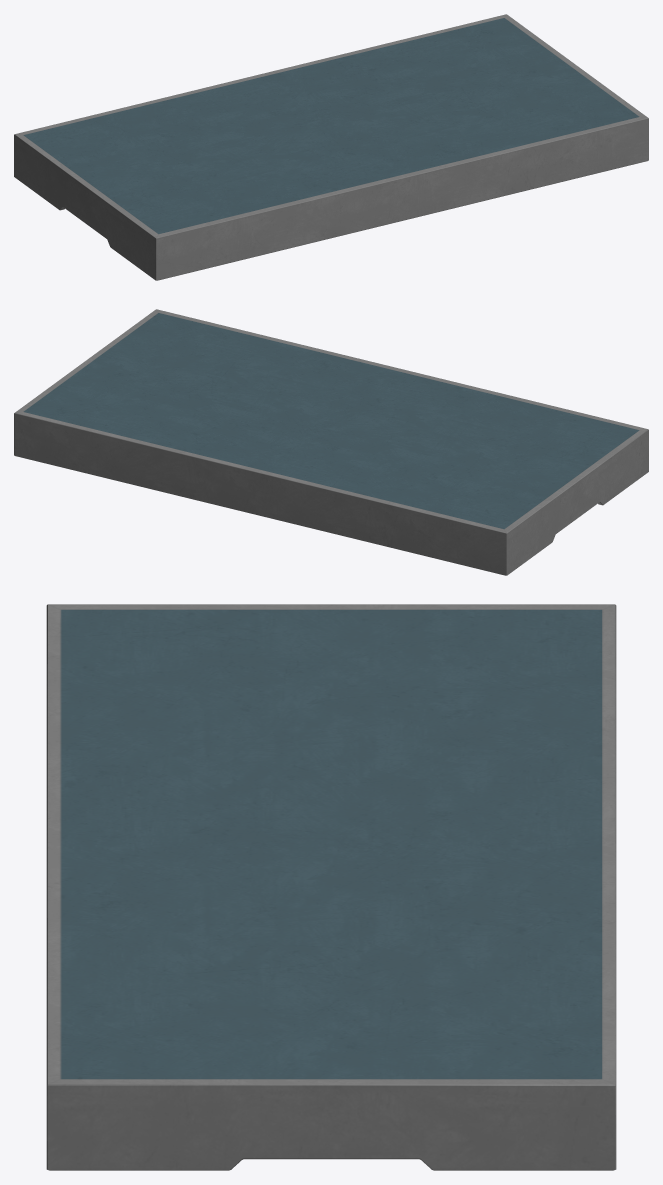
Rendered from TeachersPlatform.FBX.
3 views of the same model, one above another, from view 1: azimuth 30°, elevation 25°; view 2: azimuth 150°, elevation 25°; view 3: azimuth 270°, elevation 25° (orthographic). The views are drawn at different scales.
Visible parts, largest first — view 1: TeachersPlatform; view 2: TeachersPlatform; view 3: TeachersPlatform.
Boxes of the visible parts, x1=… form: TeachersPlatform: x1=14, y1=14, x2=648, y2=280; TeachersPlatform: x1=14, y1=309, x2=648, y2=575; TeachersPlatform: x1=46, y1=604, x2=616, y2=1170.
Size of the model in its own units: 180 by 15 by 90.
